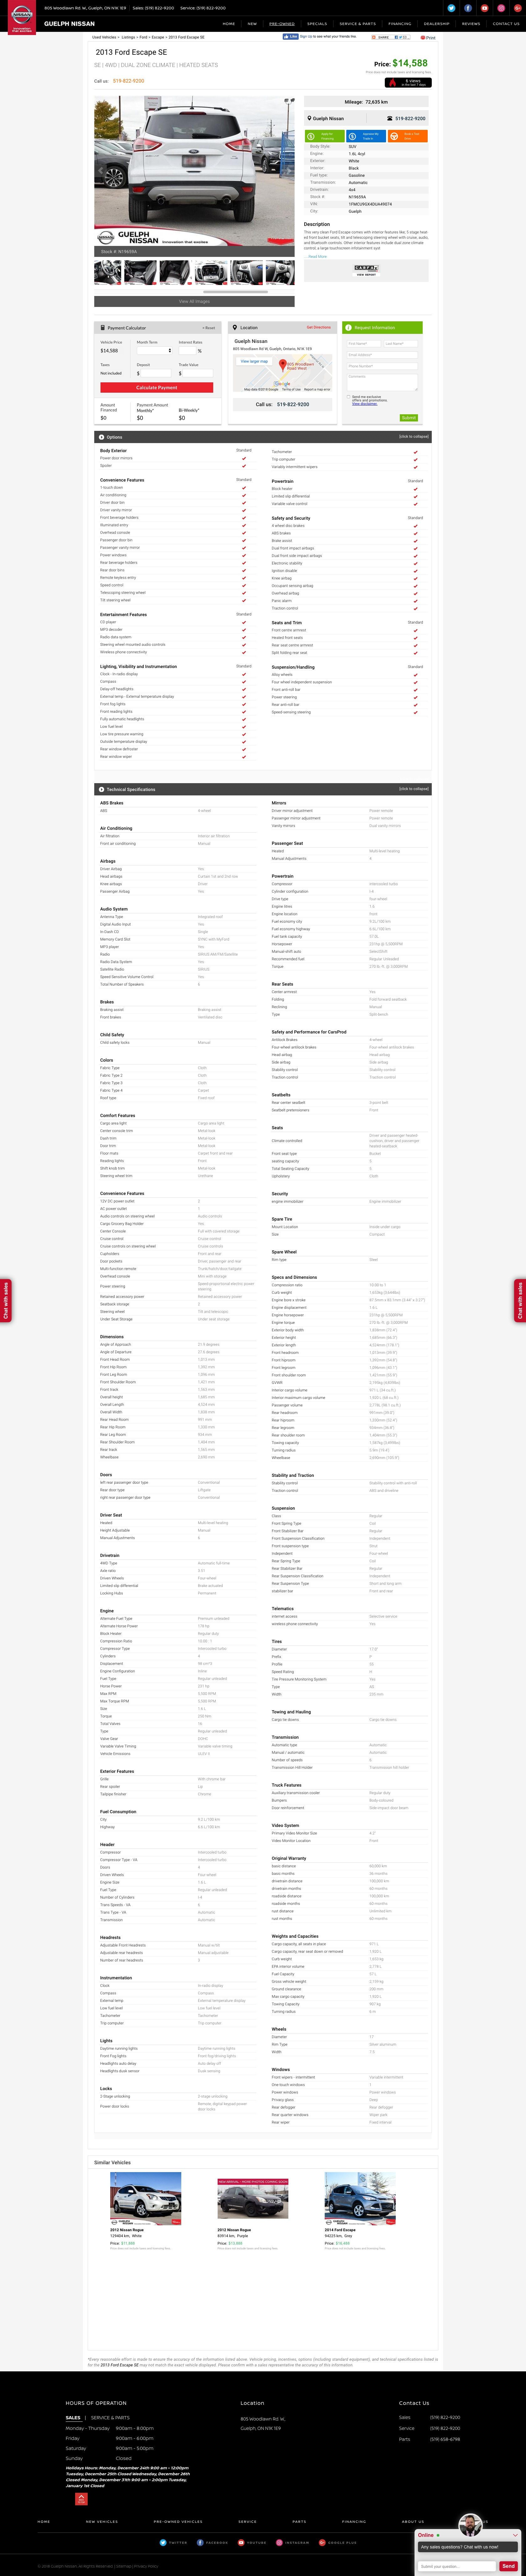car: (286, 168, 293, 174)
